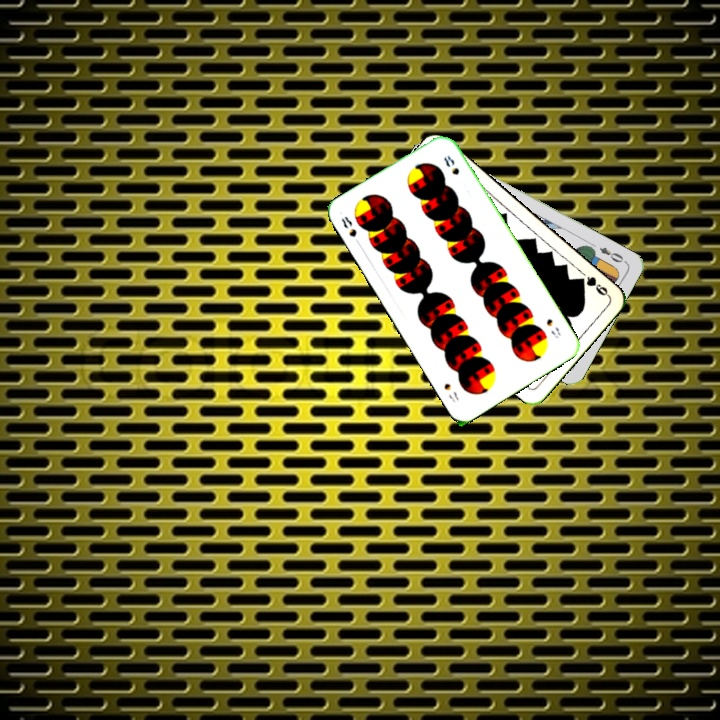EO: (595, 243, 629, 265)
G9: (574, 272, 612, 299)
S8: (337, 212, 363, 249), (542, 314, 563, 341)
